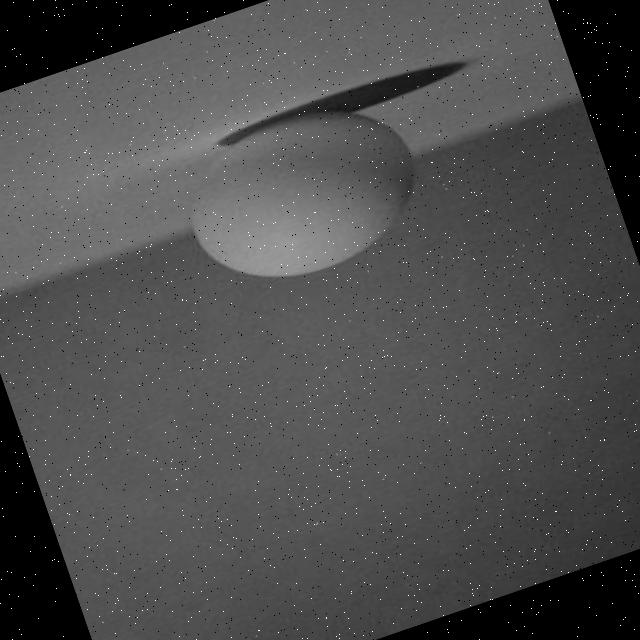ping-pong-ball: (164, 80, 439, 308)
